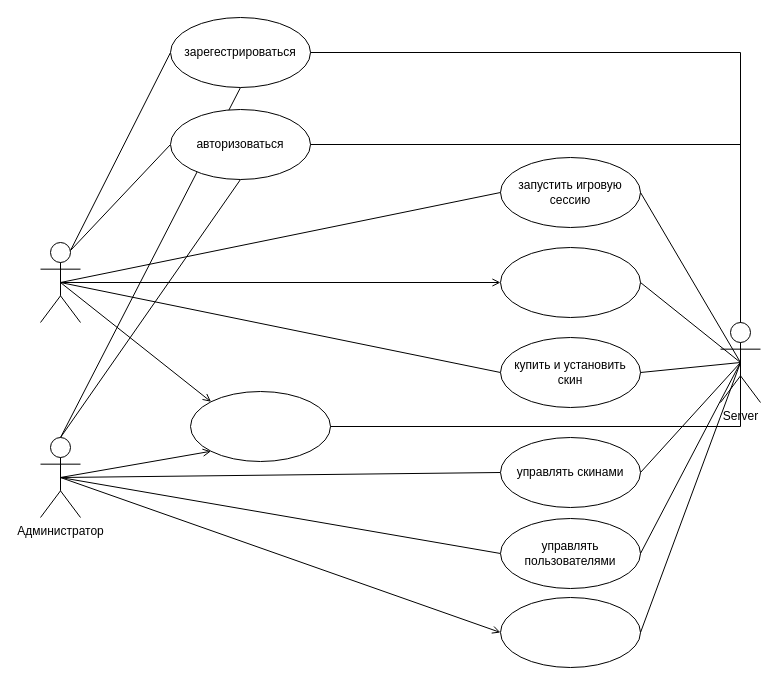
Image size: 778x685. Some labels were removed from this diagram. Each missing label, with the centre of its shape:
"Пользователь" goes at point 60,282.
"просмотреть личную статистику" goes at point 570,282.
"просмотреть общую статистику" goes at point 570,632.
"просмотреть таблицы лидеров" goes at point 260,426.
